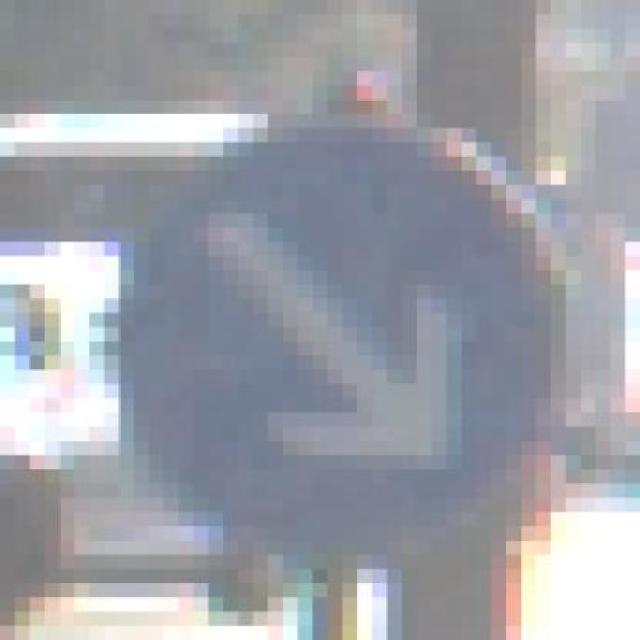Keep-Right: (104, 85, 581, 569)
